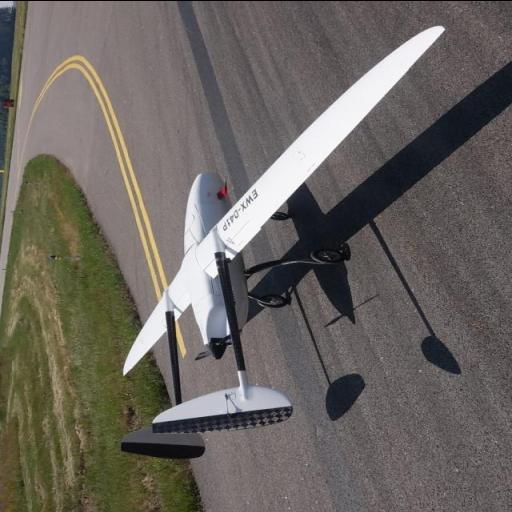uav: (112, 14, 466, 464)
